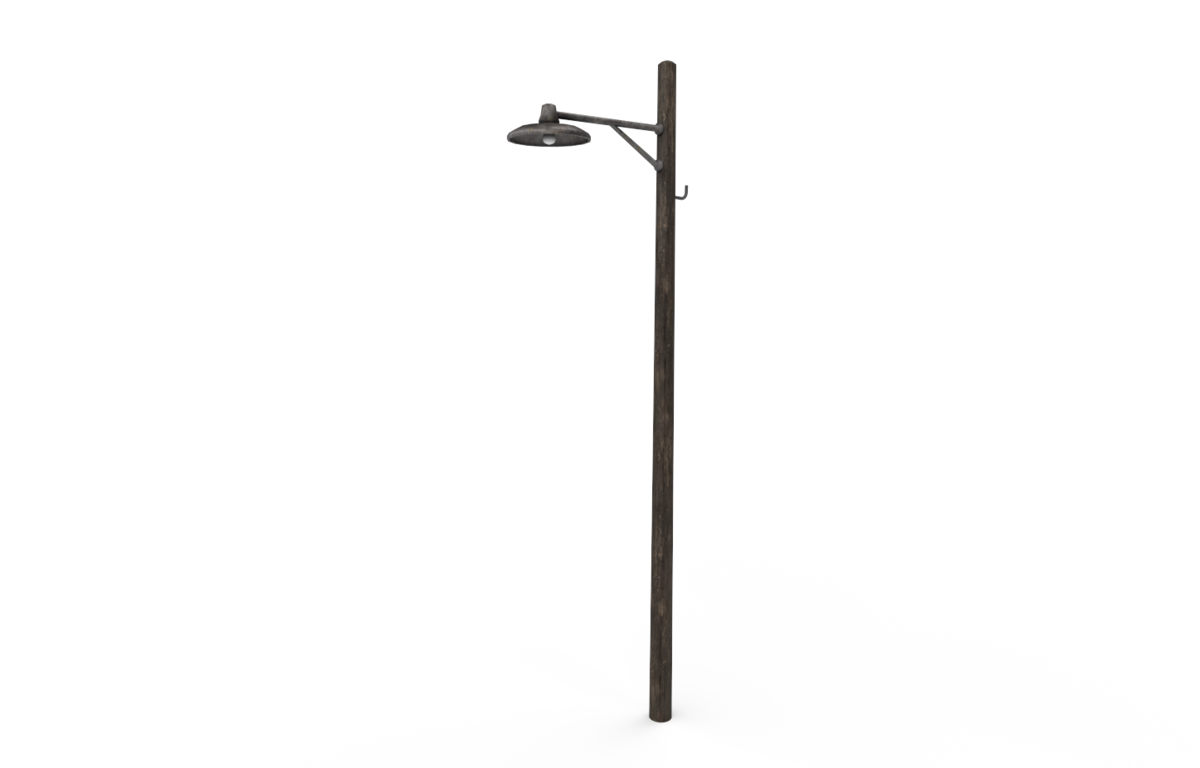light_pole: (633, 38, 703, 722)
